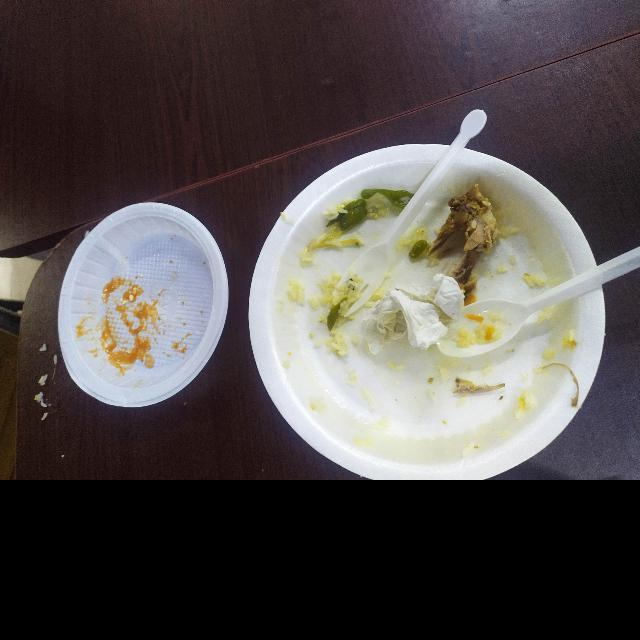kitchen paper: (364, 274, 484, 362)
